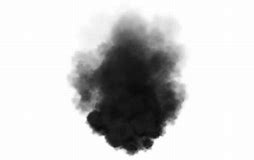smoke: (72, 19, 186, 154)
